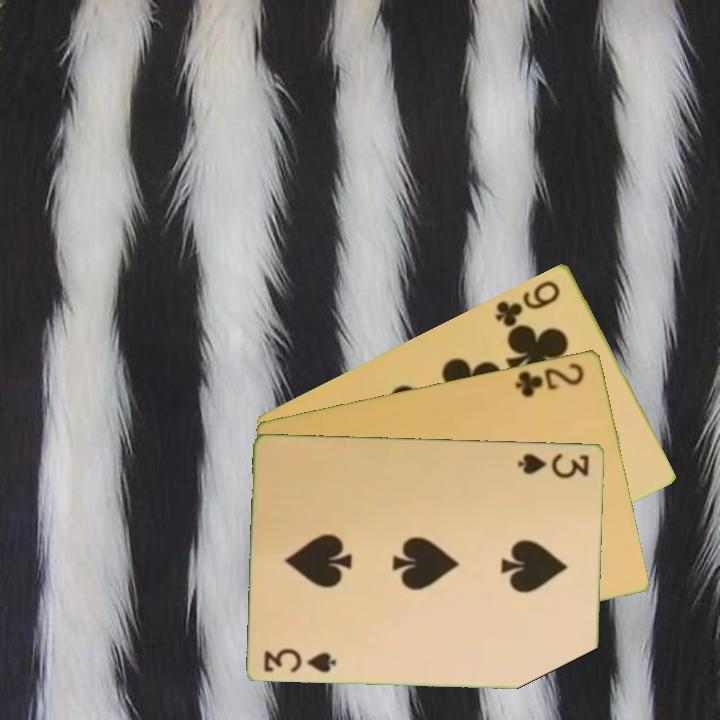2c: (511, 358, 588, 400)
3s: (260, 644, 340, 675), (515, 449, 592, 481)
9c: (491, 276, 564, 330)
